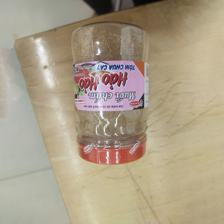Hao_hao: (70, 22, 149, 167)
